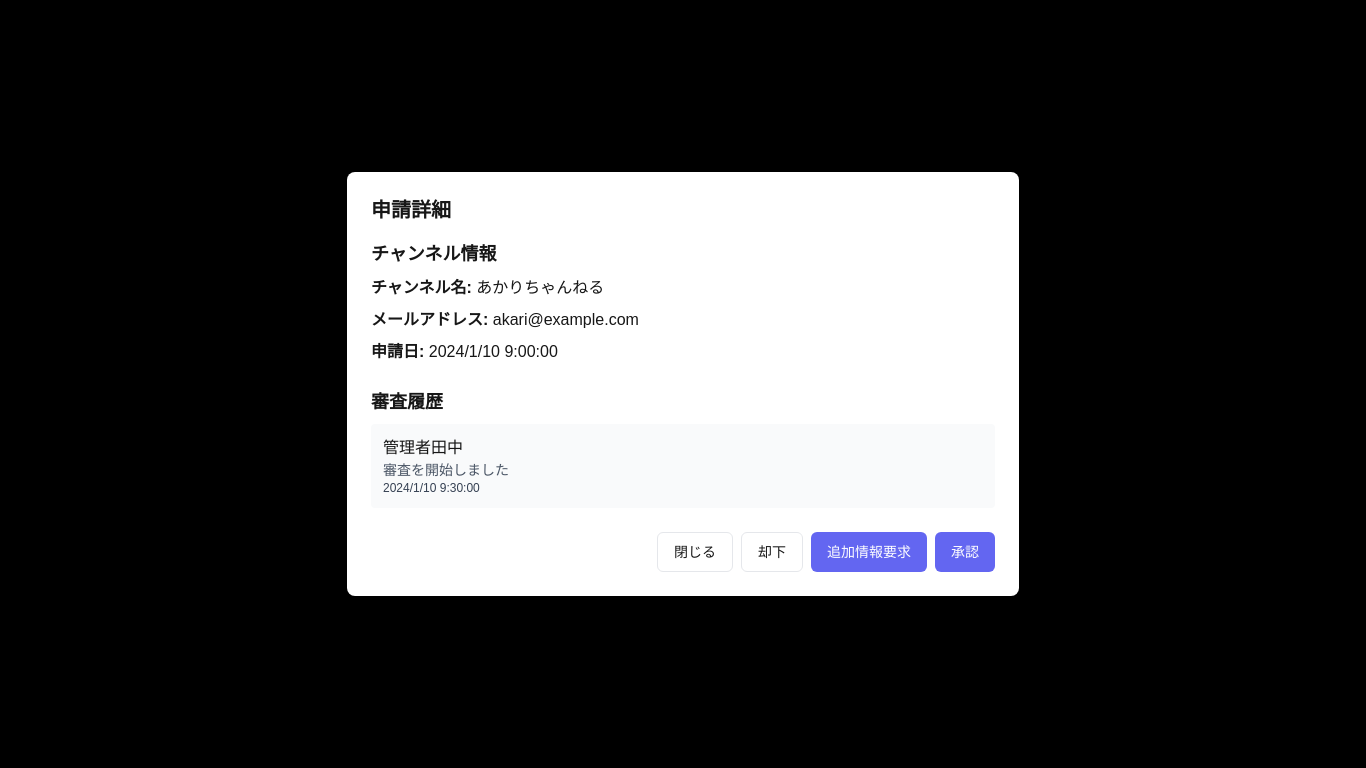
Test: VTuberReviewPage › Review Actions › should require reason when rejecting application
What coordinates should you click on to do the following:
click the button "却下"
I would click on:
 (772, 552)
Its box is [741,532,803,572].
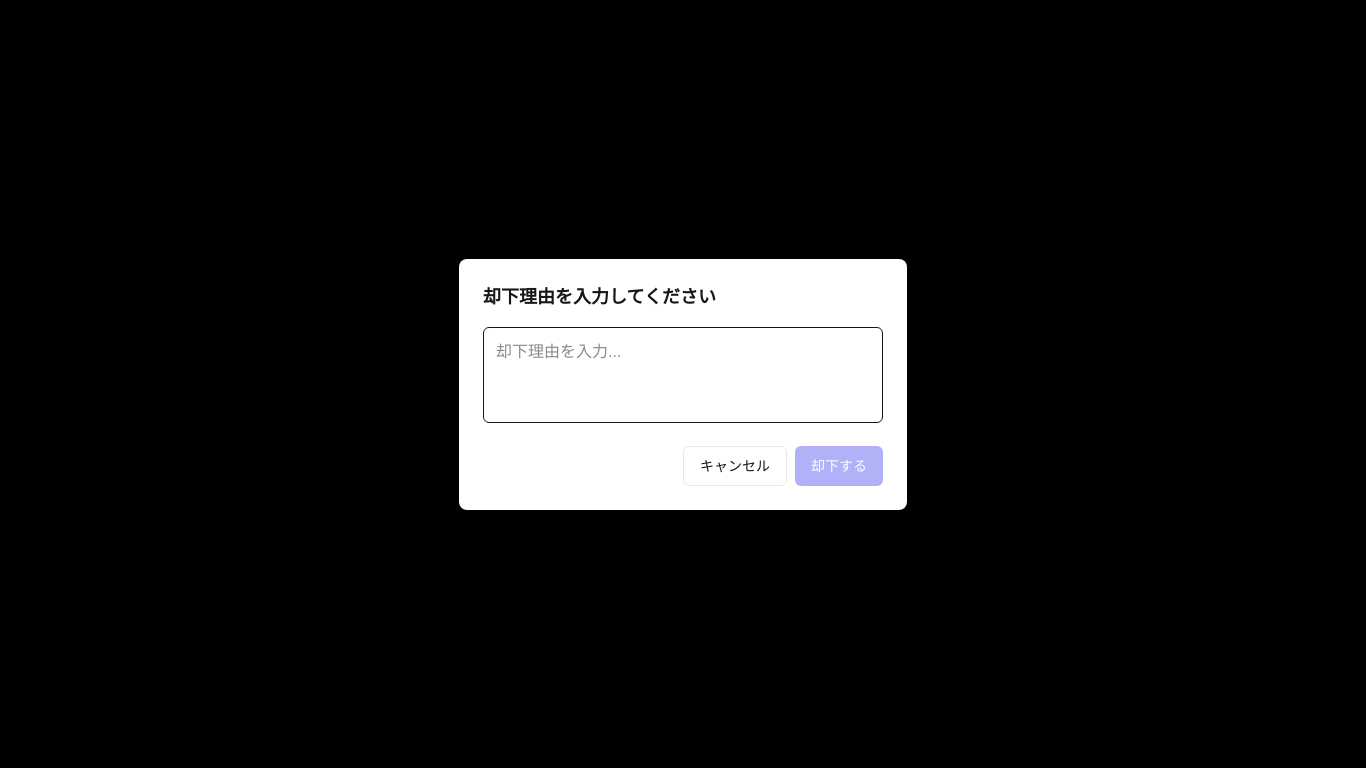
Now the heading "却下理由を入力してください" is shown, box [483,286,716,306]
Now the text box with placeholder "却下理由を入力..." is shown, box [483,326,883,422]
